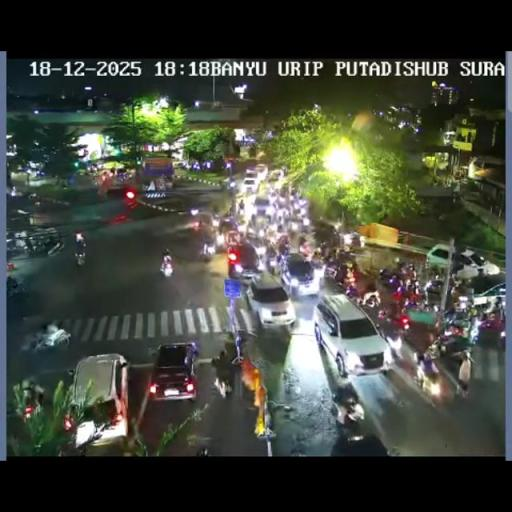Car: (316, 293, 390, 377), (66, 354, 130, 448), (147, 342, 199, 402), (246, 274, 294, 328), (426, 244, 496, 277), (279, 252, 321, 298), (226, 238, 260, 279), (466, 281, 504, 314), (251, 195, 272, 221), (192, 210, 215, 232), (242, 176, 259, 193), (251, 164, 268, 178), (267, 168, 284, 182)
Motorcycle: (330, 430, 390, 456), (331, 383, 364, 427), (24, 322, 71, 352), (414, 352, 444, 397), (376, 293, 410, 326), (19, 380, 46, 421), (435, 323, 470, 352), (455, 352, 472, 397), (444, 305, 470, 328), (378, 266, 405, 288), (384, 326, 403, 354), (358, 285, 380, 308), (210, 347, 232, 369), (324, 257, 345, 279), (6, 275, 26, 298), (198, 238, 216, 262), (423, 278, 444, 297), (342, 230, 364, 248), (467, 314, 480, 344), (266, 252, 282, 276), (46, 238, 66, 256), (495, 318, 506, 349), (220, 215, 238, 233), (286, 220, 300, 243), (406, 278, 422, 298), (401, 262, 418, 280), (160, 256, 173, 278), (319, 240, 333, 260), (254, 239, 267, 259), (116, 168, 134, 182), (74, 246, 86, 266), (345, 282, 359, 299), (24, 236, 37, 254), (496, 298, 506, 320), (215, 230, 227, 247), (279, 239, 291, 256), (275, 206, 286, 224), (300, 244, 313, 259), (296, 202, 308, 218), (290, 190, 301, 206), (386, 446, 400, 456), (9, 186, 22, 196), (249, 213, 257, 229), (257, 225, 266, 238), (228, 202, 235, 216), (238, 203, 244, 215), (68, 368, 74, 376)
